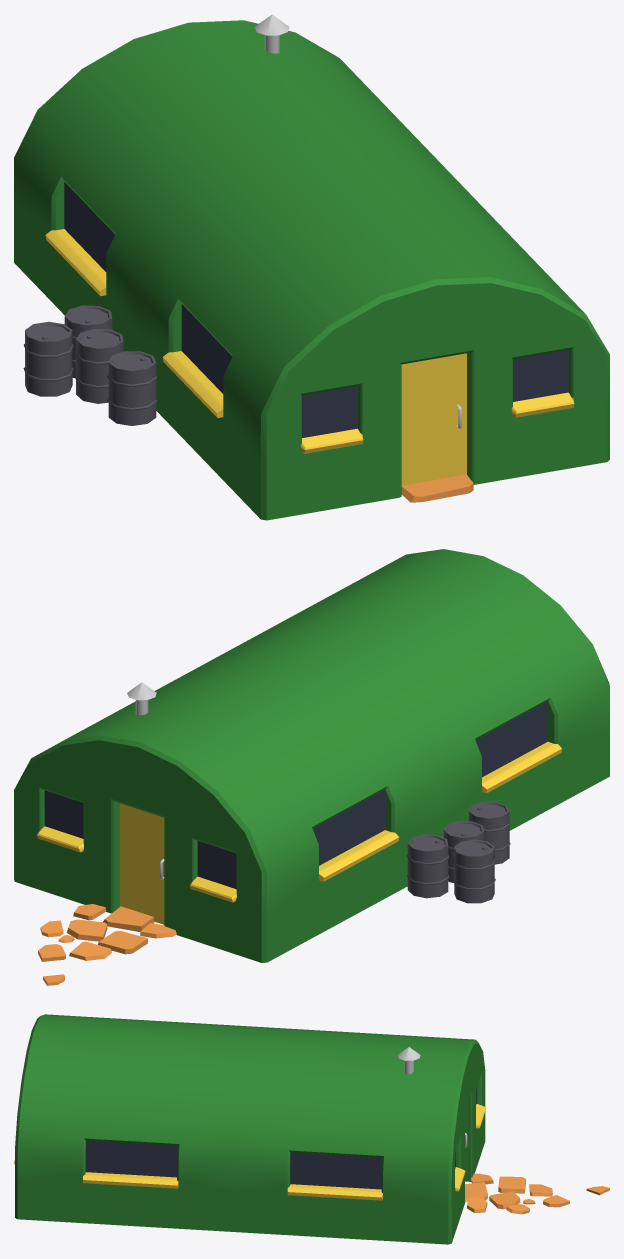
File: BuildingSand02 (1).fbx
The picture shows the model from 3 angles, top to bottom: view 1: azimuth 30°, elevation 25°; view 2: azimuth 150°, elevation 25°; view 3: azimuth 270°, elevation 25°; orthographic projection. The views are drawn at different scales.
Parts seen in each view (by area): view 1: BuildingSand02__1_; view 2: BuildingSand02__1_; view 3: BuildingSand02__1_.
Boxes of the visible parts, <box> form: BuildingSand02__1_: <box>14,14,609,520</box>; BuildingSand02__1_: <box>14,549,609,985</box>; BuildingSand02__1_: <box>14,1014,609,1244</box>.
Size of the model in its own units: 554 by 284 by 958.
